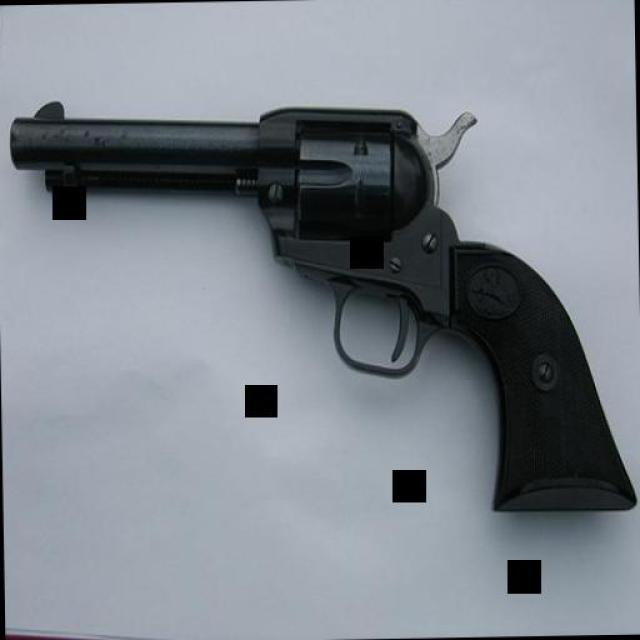gun: (7, 88, 635, 528)
